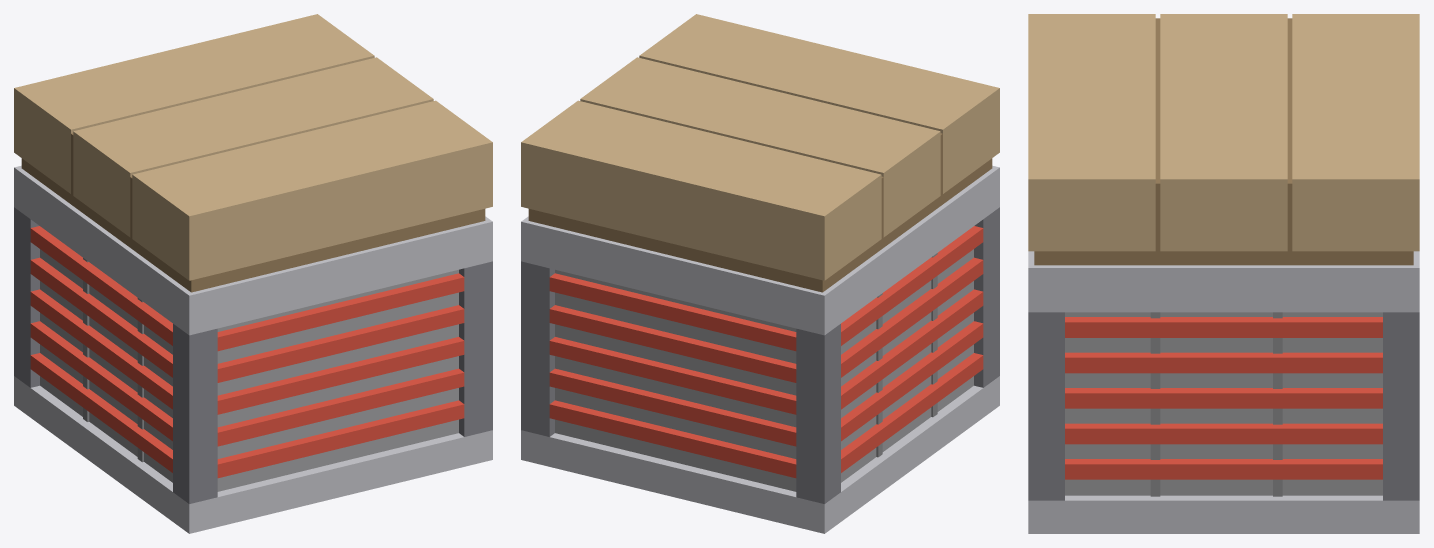
The model's file is piston_5_held.gltf.
The picture shows the model from 3 angles, left to right: view 1: azimuth 30°, elevation 25°; view 2: azimuth 150°, elevation 25°; view 3: azimuth 270°, elevation 25°; orthographic projection. The views are drawn at different scales.
Visible parts, largest first — view 1: cinnabar_piston_5_held; view 2: cinnabar_piston_5_held; view 3: cinnabar_piston_5_held.
Boxes of the visible parts, x1,y1,x2,y2 form: cinnabar_piston_5_held: (14,14,492,533); cinnabar_piston_5_held: (521,14,999,533); cinnabar_piston_5_held: (1028,14,1419,533).
Size of the model in its own units: 0.16 by 0.16 by 0.16.
